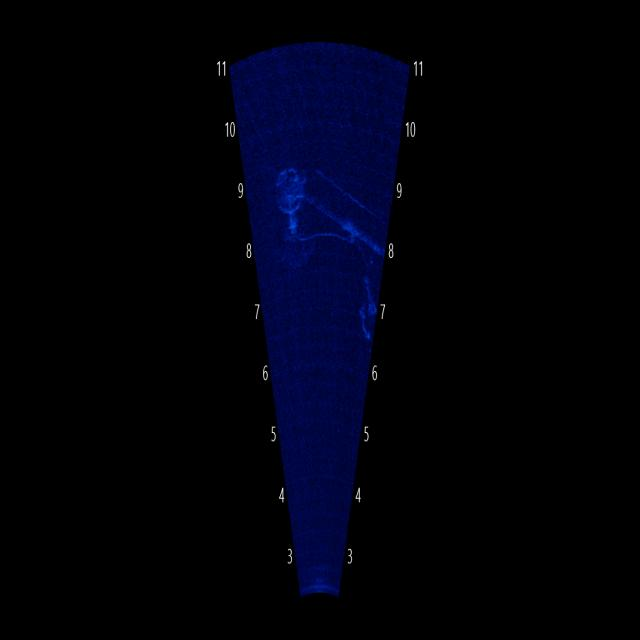circle: (265, 129, 308, 235)
